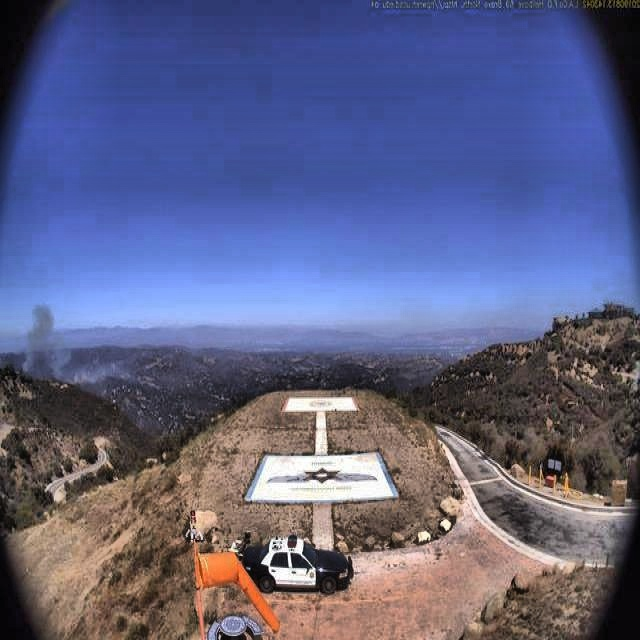smoke: (23, 299, 167, 392)
